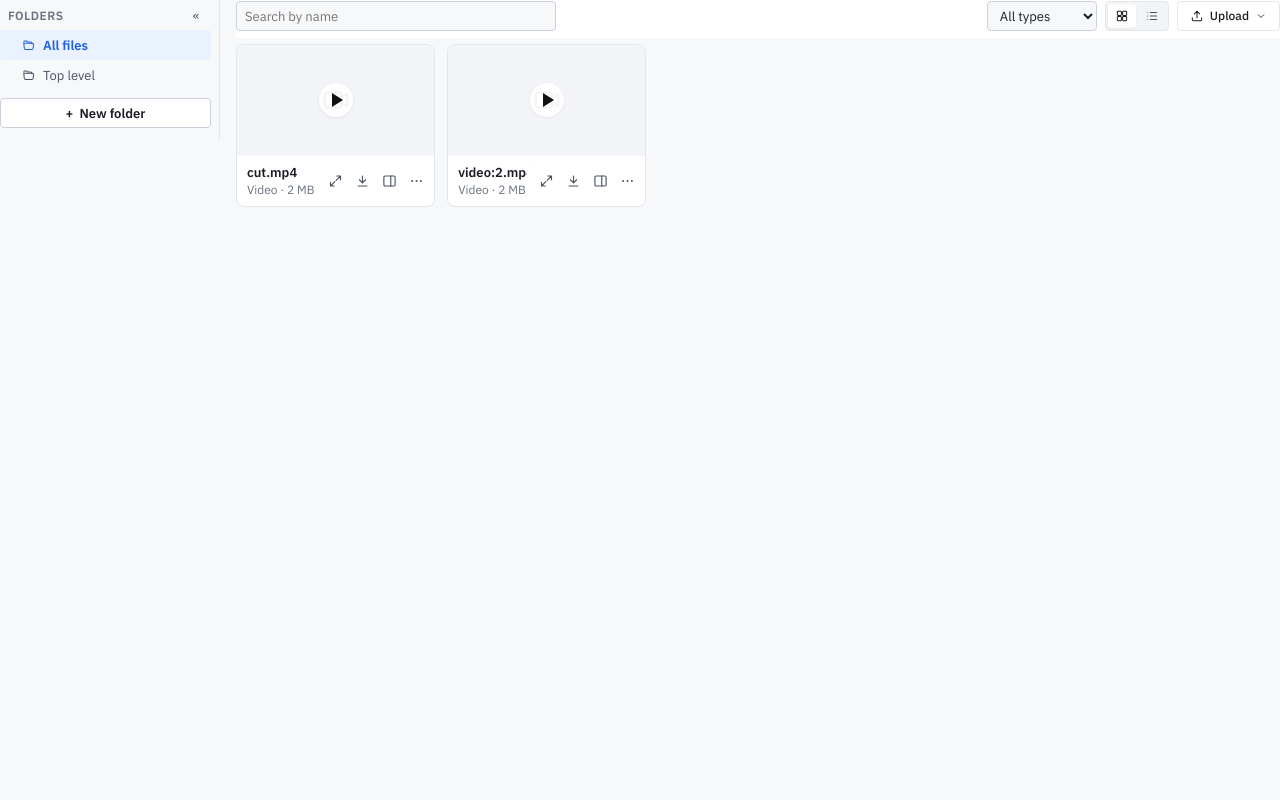
Delete › confirms with the exact message, hides the card at once, removes, and refetches
Click the button named "More for cut.mp4".
click(417, 181)  # box [403,167,430,194]
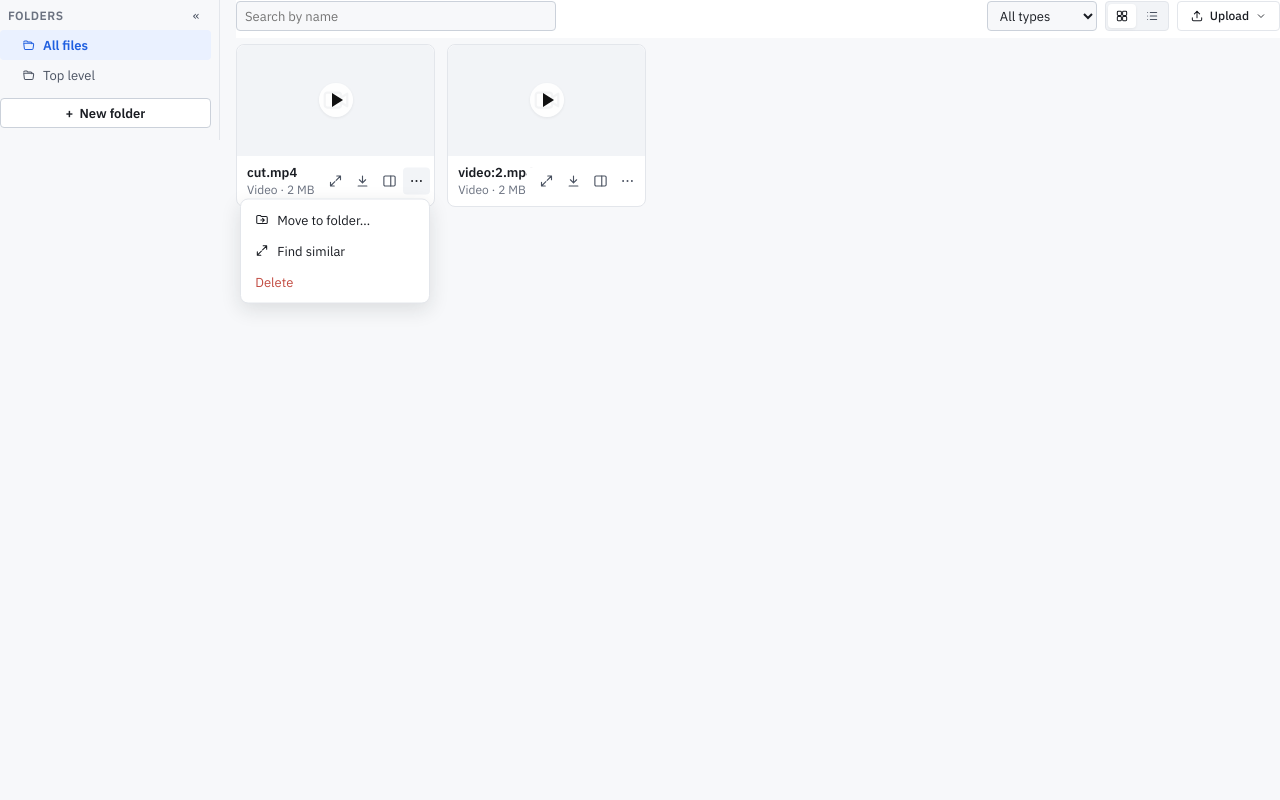
Click the menu item "Delete".
click(335, 282)  # box [246,266,424,297]
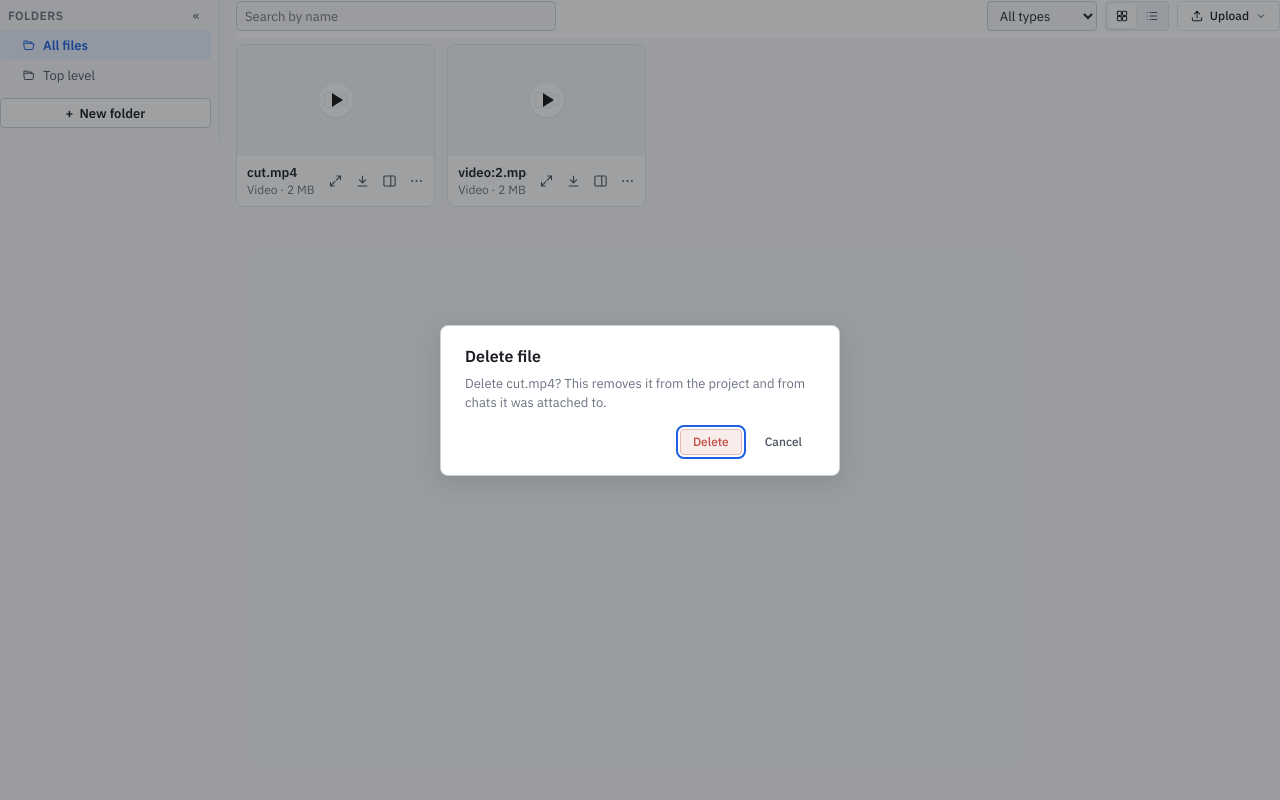
Result: the dialog shows "Delete cut.mp4? This removes it from the project and from chats it was attached to." at [465,374,805,411]
Click the button "Delete".
click(711, 442)  # box [680,428,742,454]
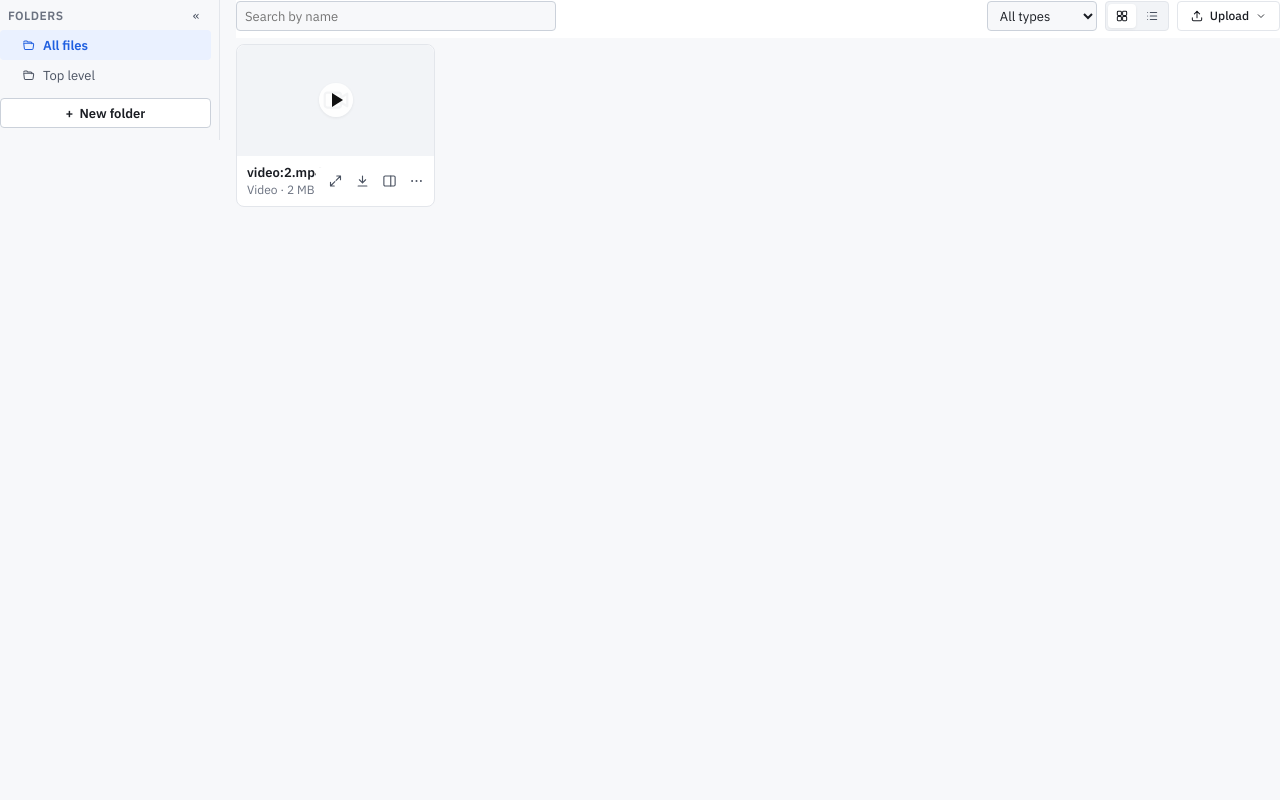
Result: the number of list items with test id "asset-card" is 1 at [236,44,435,207]
